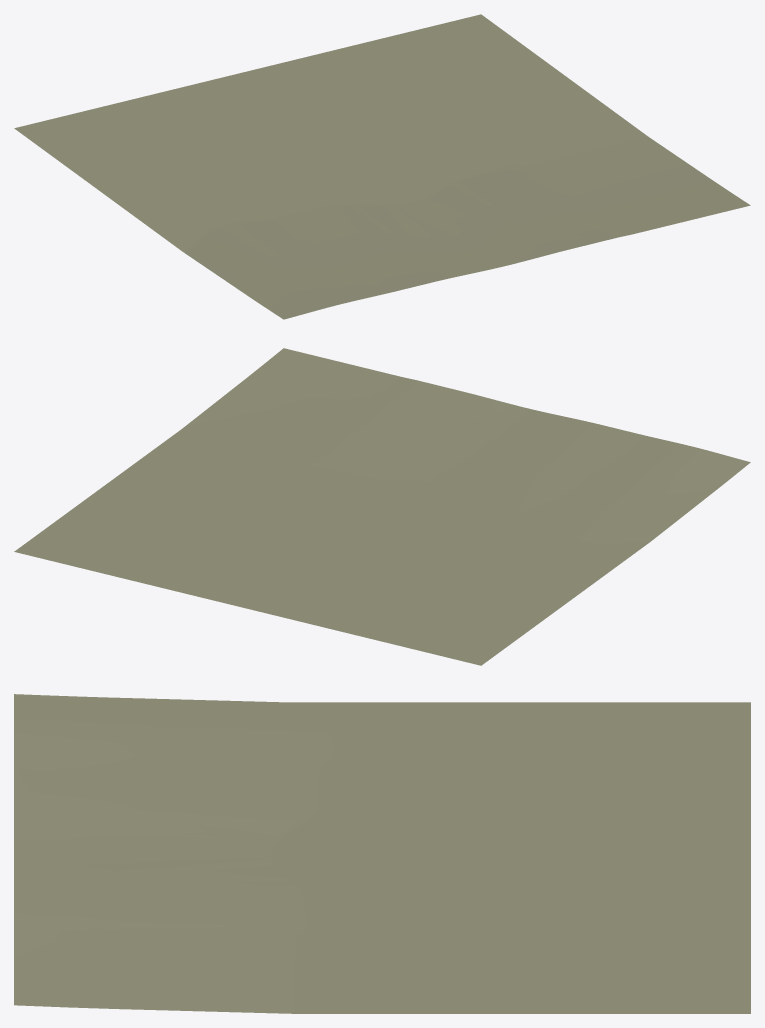
The model's file is SM_VB_CityTerrain_0_1.fbx.
3 renders of one model, top to bottom at view 1: azimuth 30°, elevation 25°; view 2: azimuth 150°, elevation 25°; view 3: azimuth 270°, elevation 25°, orthographic. The views are drawn at different scales.
Parts seen in each view (by area): view 1: SM_VB_CityTerrain_0_1; view 2: SM_VB_CityTerrain_0_1; view 3: SM_VB_CityTerrain_0_1.
Boxes of the visible parts, x1,y1,x2,y2 form: SM_VB_CityTerrain_0_1: (14,14,750,319); SM_VB_CityTerrain_0_1: (14,348,750,665); SM_VB_CityTerrain_0_1: (14,694,750,1013).
Size of the model in its own units: 600 by 9.27 by 600.
